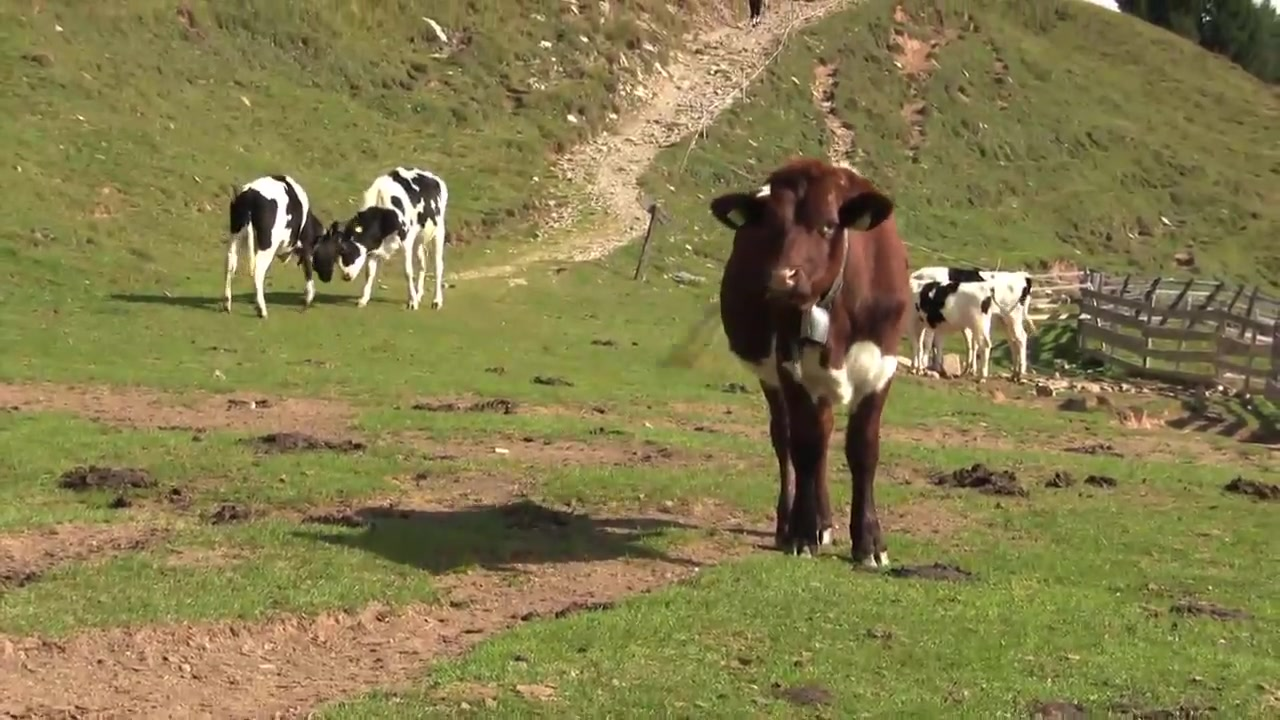cow: (713, 155, 914, 577)
